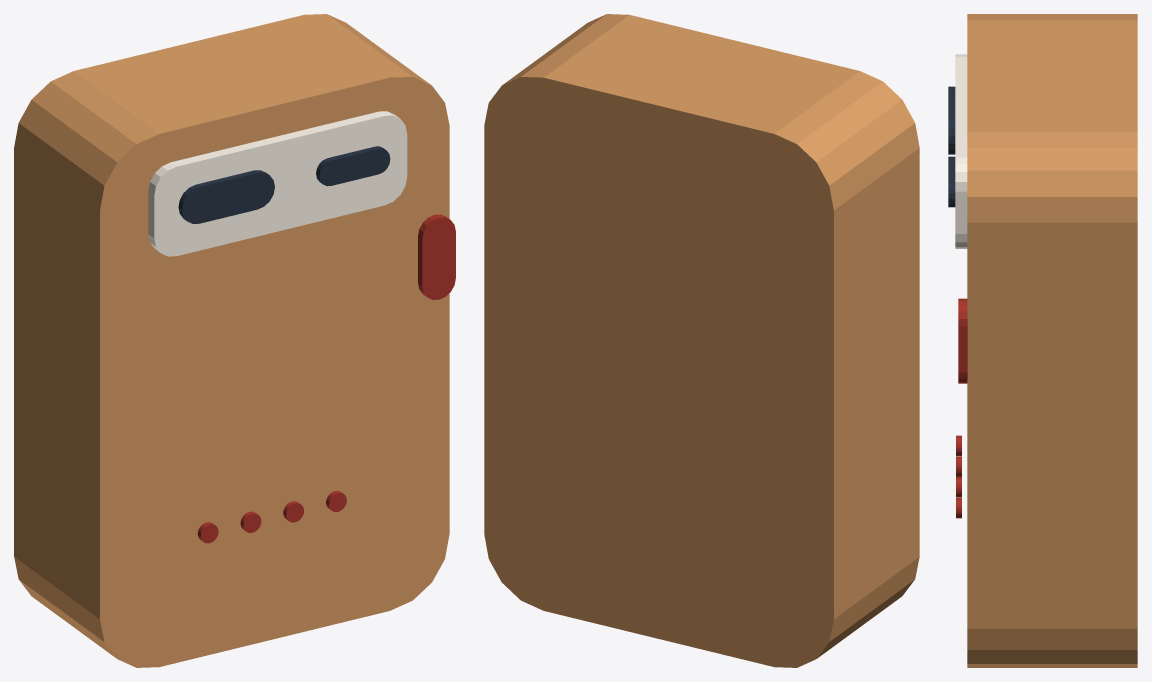
Rendered from powerbank.glb.
3 views of the same model, side by side, from view 1: azimuth 30°, elevation 25°; view 2: azimuth 150°, elevation 25°; view 3: azimuth 270°, elevation 25° (orthographic).
Visible parts, largest first — view 1: body, port panel, port usb a, power key, port usb c; view 2: body; view 3: body, port panel, power key, port usb a, port usb c.
Part boxes in pixels (x1,y1,x2,y2): body: (14, 14, 449, 667); port panel: (148, 111, 407, 256); port usb a: (178, 170, 274, 223); power key: (418, 214, 455, 299); port usb c: (316, 146, 390, 186); body: (484, 14, 919, 667); body: (967, 14, 1137, 667); port panel: (955, 54, 967, 248); power key: (958, 298, 967, 383); port usb a: (948, 86, 955, 154); port usb c: (948, 156, 955, 207).
Size of the model in its own units: 0.945 by 1.37 by 0.4445.
